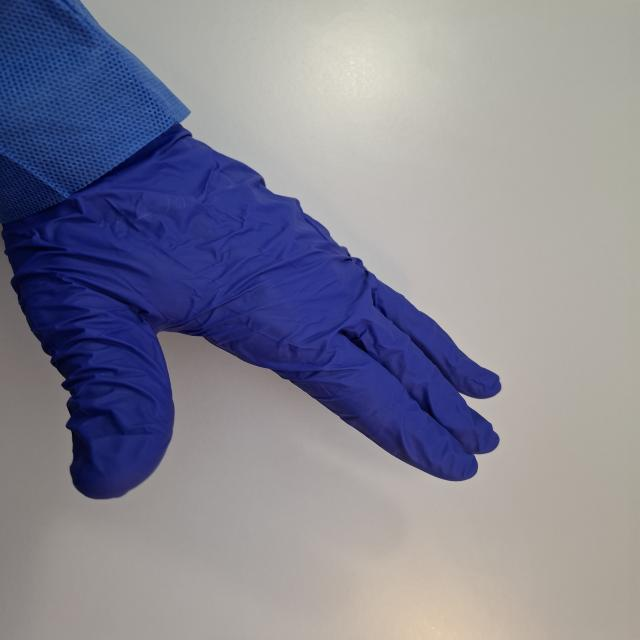glove_on: (3, 121, 508, 505)
